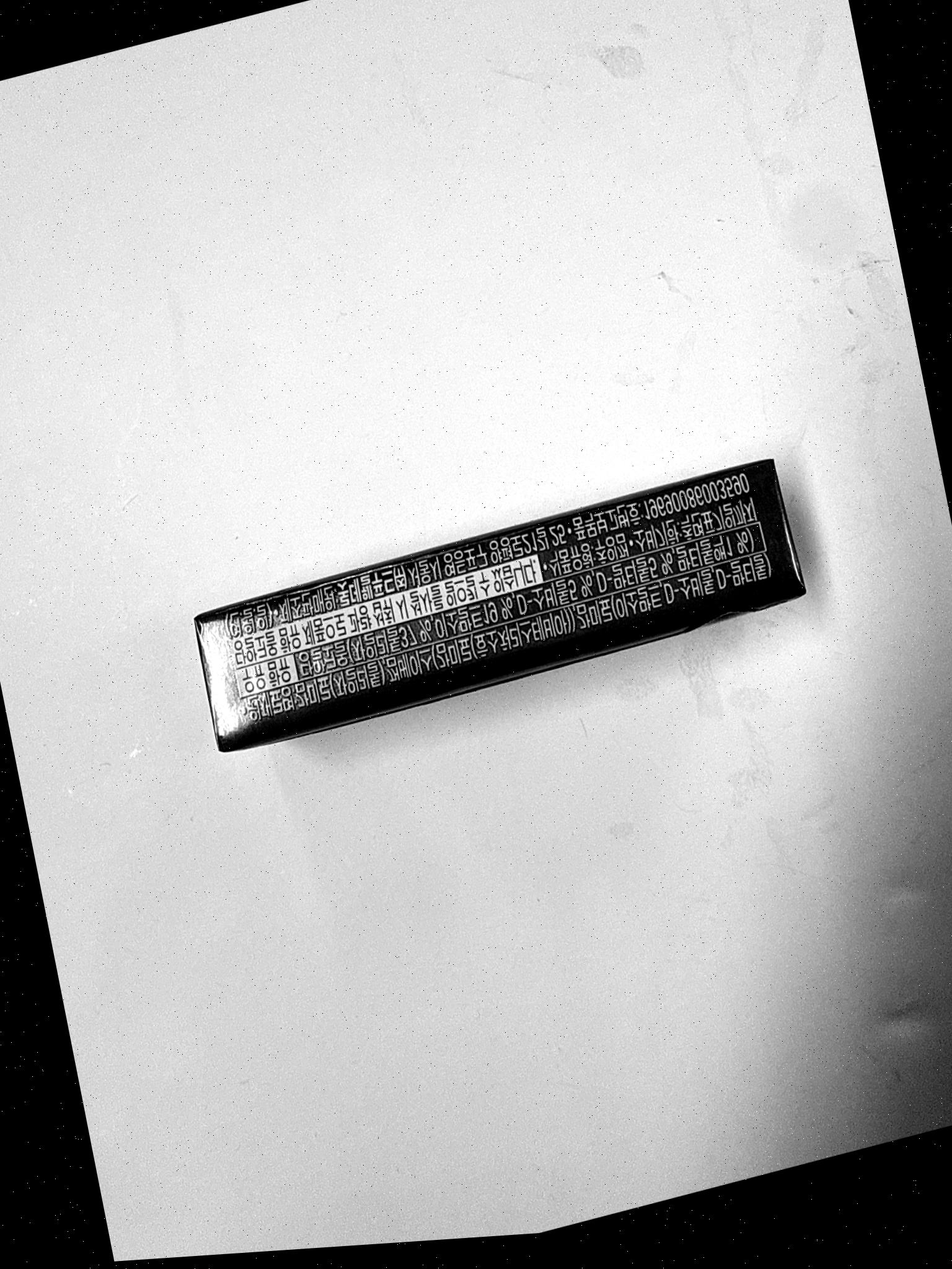gum_green: (195, 456, 803, 750)
